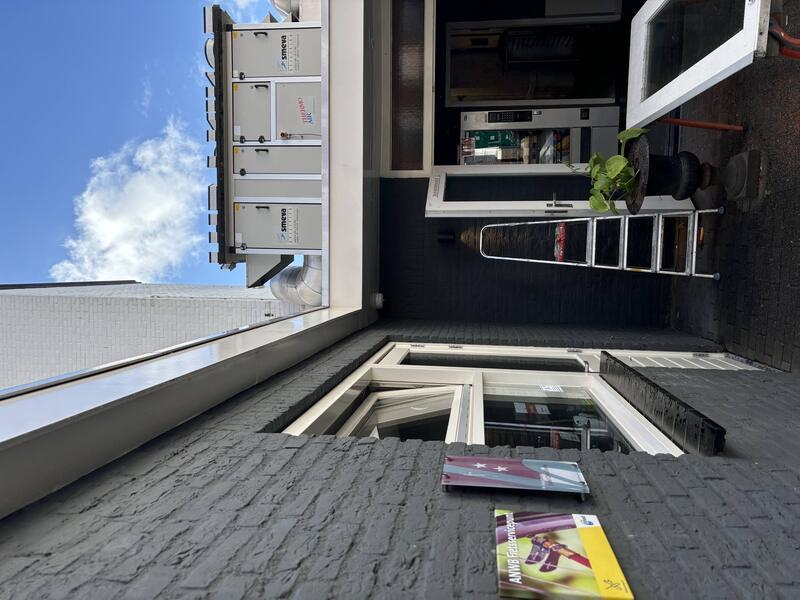dome: (286, 372, 316, 391)
